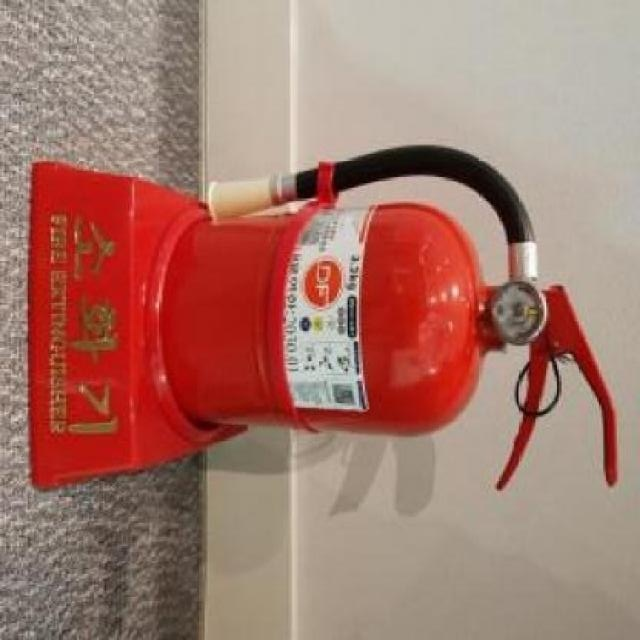fire extinguisher: (159, 144, 618, 491)
